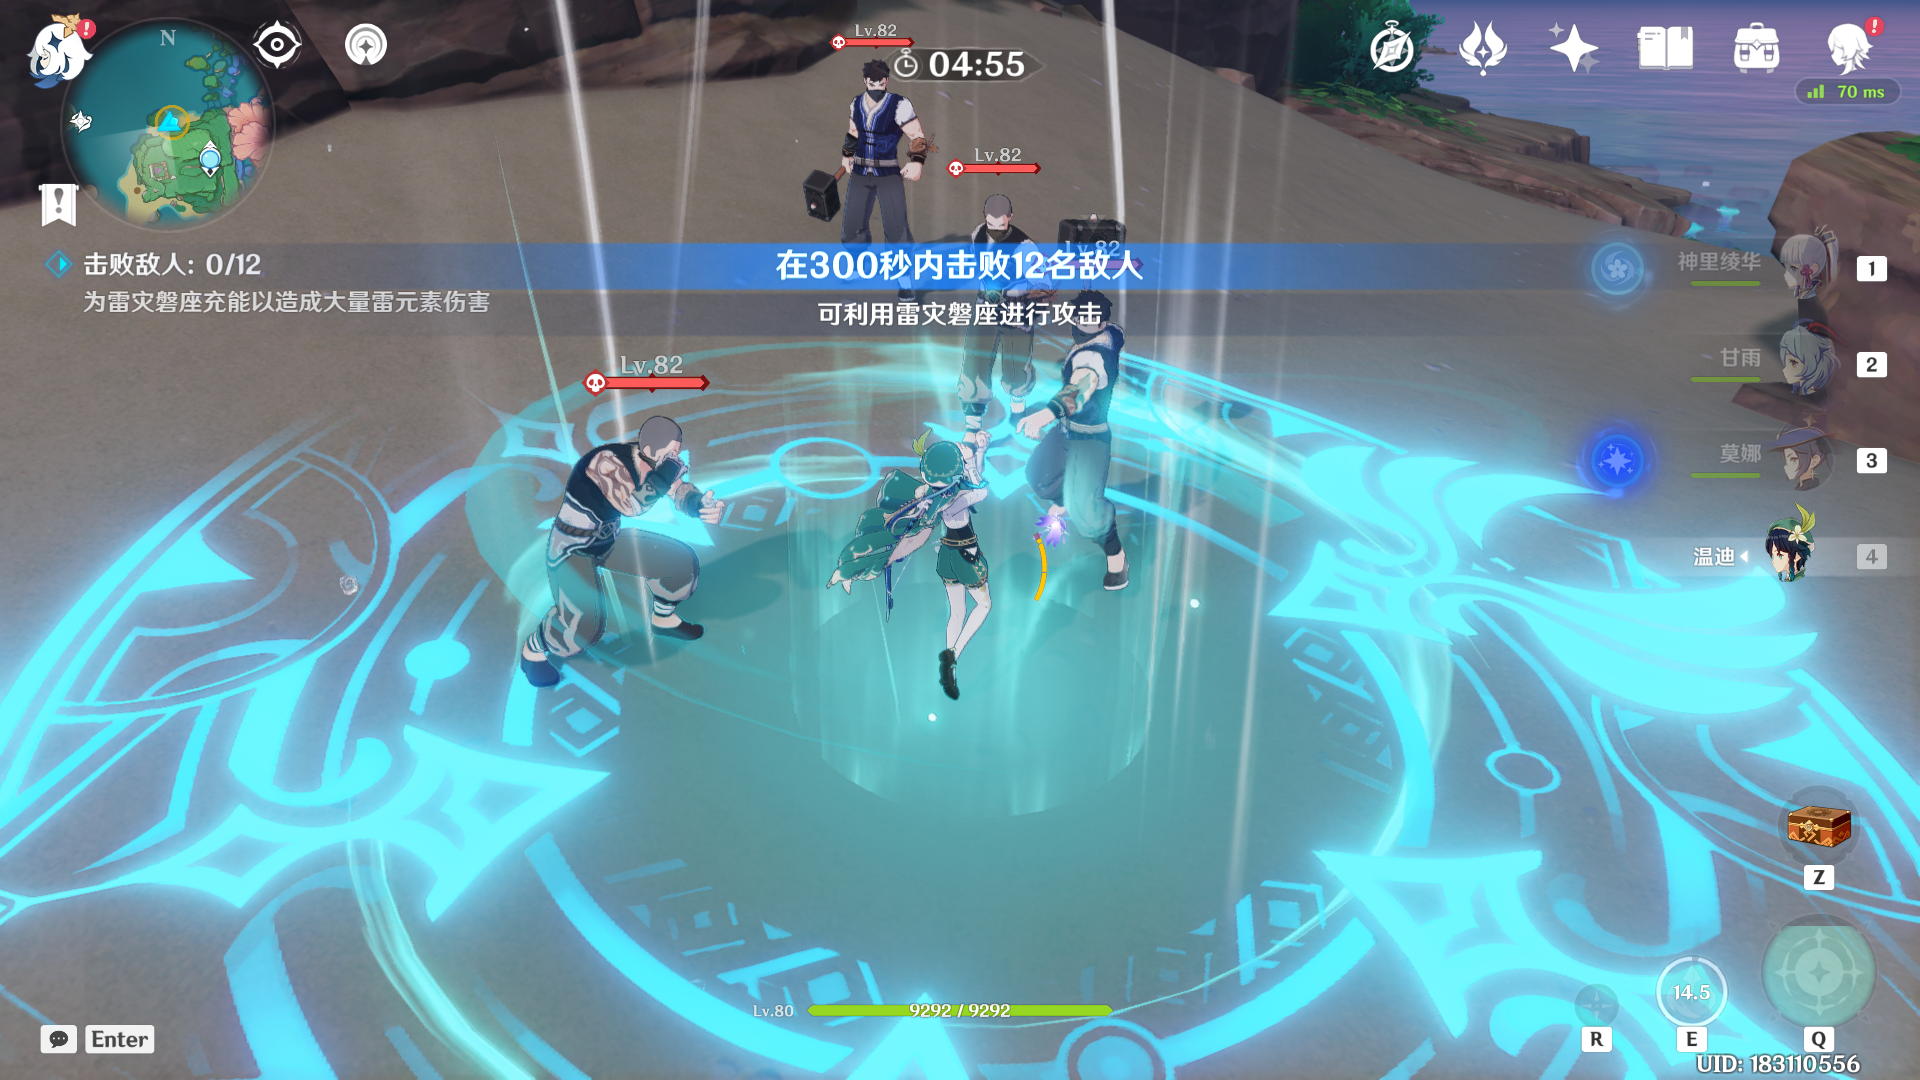character: (836, 419, 1034, 724)
robber: (468, 382, 761, 762), (1011, 280, 1191, 640), (905, 175, 1055, 423), (800, 47, 936, 278)
